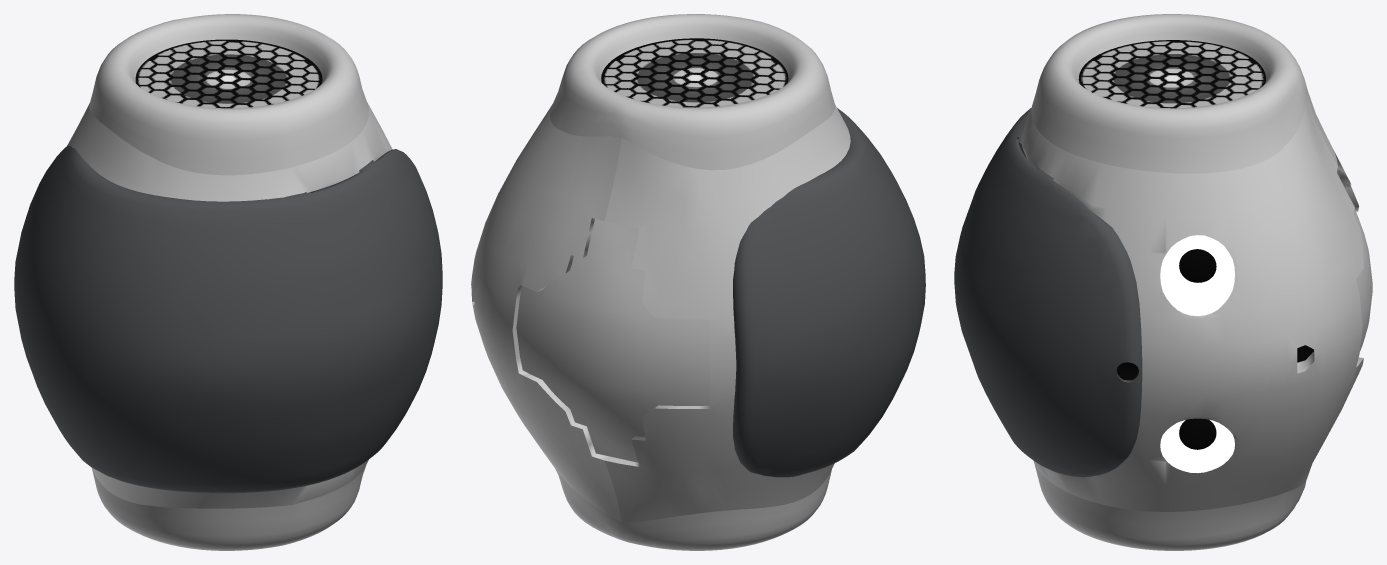
The model's file is head.glb.
3 views of the same model, side by side, from view 1: azimuth 30°, elevation 25°; view 2: azimuth 150°, elevation 25°; view 3: azimuth 270°, elevation 25° (orthographic).
Parts seen in each view (by area): view 1: naoHeadPitchV6_0, naoHeadPitchV6_5, naoHeadPitchV6_2; view 2: naoHeadPitchV6_5, naoHeadPitchV6_0, naoHeadPitchV6_2; view 3: naoHeadPitchV6_5, naoHeadPitchV6_0, naoHeadPitchV6_2, naoHeadPitchV6_4, naoHeadPitchV6_1, naoHeadPitchV6_3.
Boxes of the visible parts, left/top/right/bottom form: naoHeadPitchV6_0: left=14, top=145, right=442, bottom=493; naoHeadPitchV6_5: left=67, top=14, right=392, bottom=550; naoHeadPitchV6_2: left=135, top=39, right=322, bottom=108; naoHeadPitchV6_5: left=471, top=14, right=850, bottom=550; naoHeadPitchV6_0: left=733, top=108, right=925, bottom=477; naoHeadPitchV6_2: left=601, top=38, right=788, bottom=107; naoHeadPitchV6_5: left=1018, top=14, right=1372, bottom=550; naoHeadPitchV6_0: left=954, top=108, right=1142, bottom=477; naoHeadPitchV6_2: left=1078, top=40, right=1265, bottom=108; naoHeadPitchV6_4: left=1160, top=235, right=1234, bottom=315; naoHeadPitchV6_1: left=1116, top=249, right=1313, bottom=449; naoHeadPitchV6_3: left=1160, top=420, right=1234, bottom=473.
Bounding box in the file's own units: 0.1194 × 0.1327 × 0.1144.
6 materials, 1 textured.
